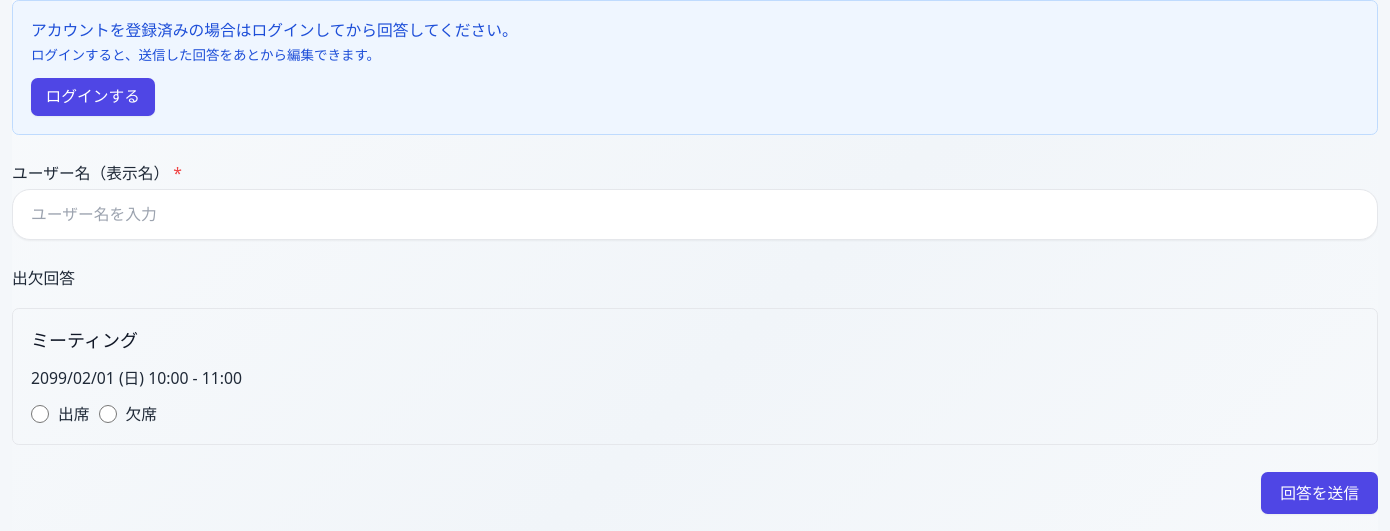
it: SurveyResponseForm › errors that logging in would resolve › should offer a login link when the name belongs to a registered account
Type "ゲスト" into the field labelled "ユーザー名（表示名） *" at (695, 214), box 12,188 -> 1378,240
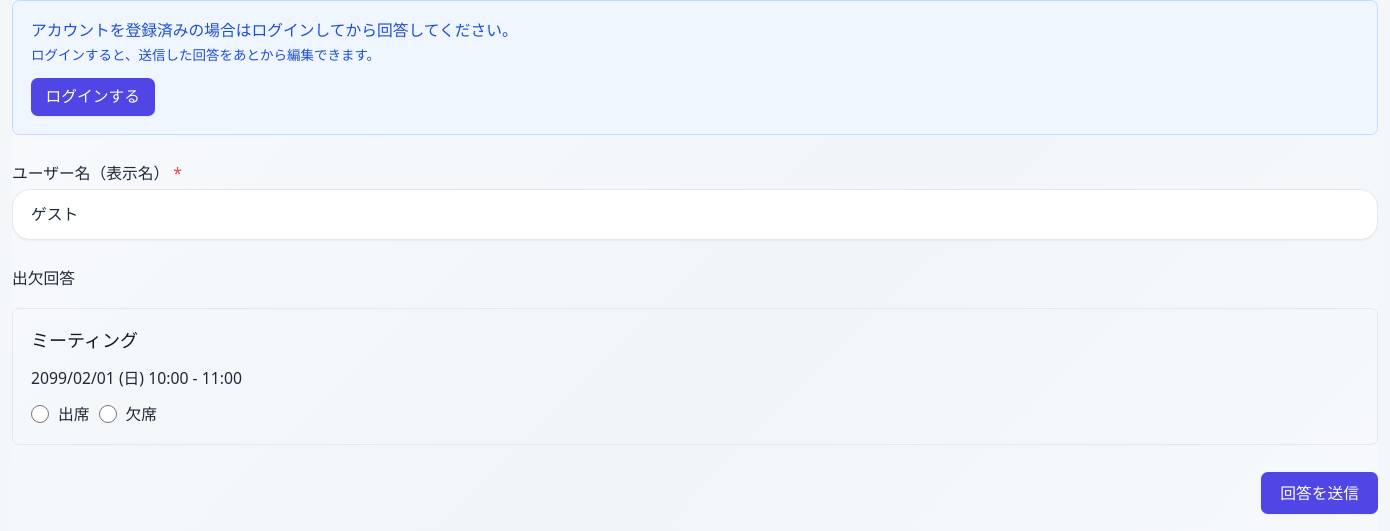
Click the button "回答を送信" at (1320, 493), box 1261,472 -> 1378,514
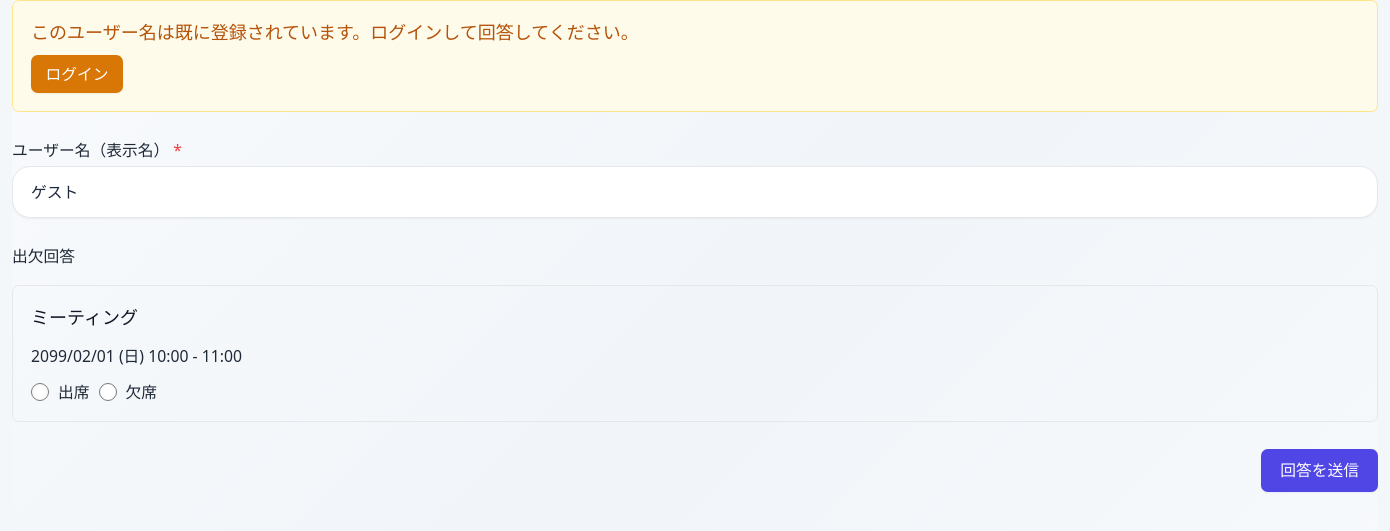
Expected: the text "このユーザー名は既に登録されています。ログインして回答してください。" is shown, 31,20 -> 639,44
Expected: the text "ログインする" is gone
